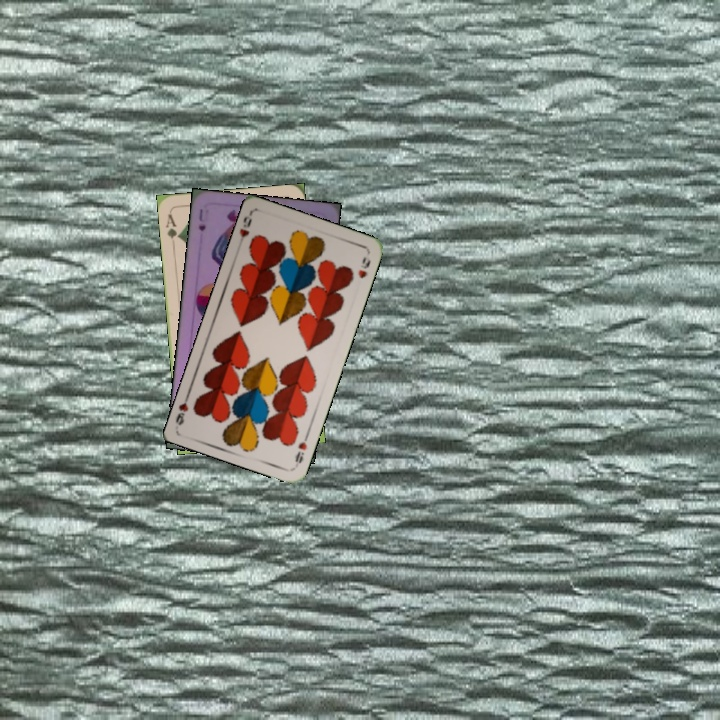GA: (162, 210, 183, 249)
H9: (291, 429, 312, 466), (236, 213, 254, 240)
SU: (195, 205, 210, 234)
